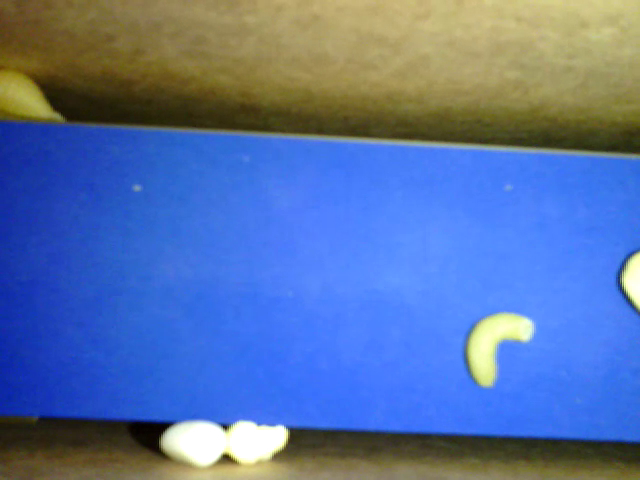elbow: (464, 310, 536, 391)
shell: (1, 66, 63, 127)
